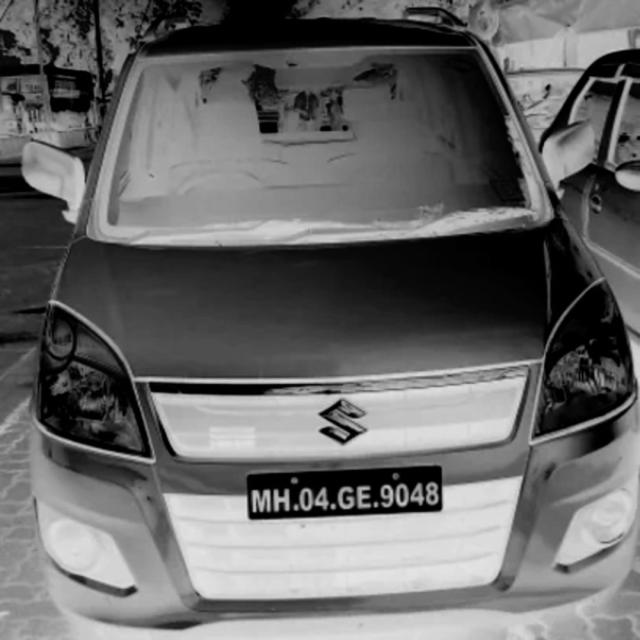Non_registered: (249, 472, 441, 512)
